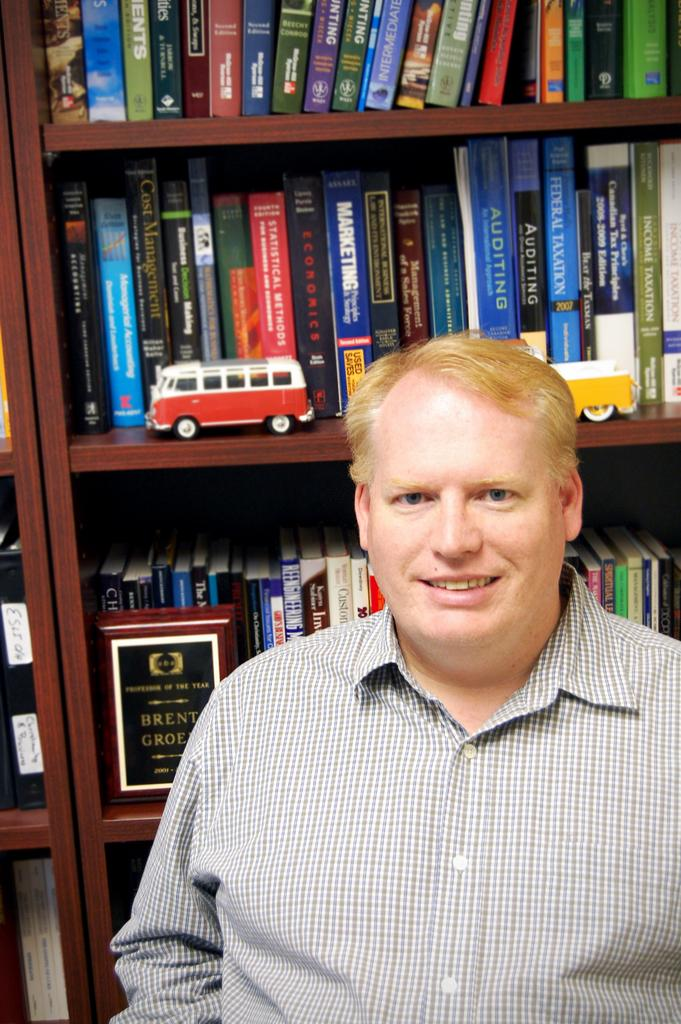Book: (42, 142, 680, 436), (81, 525, 680, 810), (21, 0, 674, 132), (0, 854, 84, 1022), (0, 525, 47, 809)
